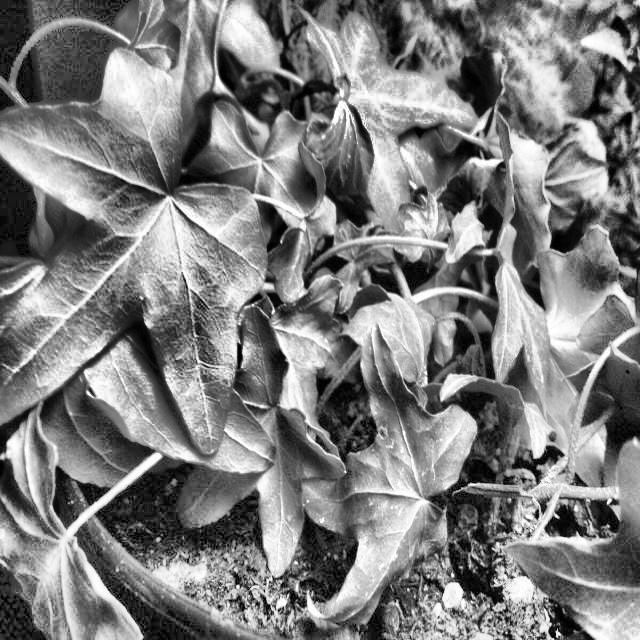plants: (1, 0, 640, 639), (268, 42, 530, 629)
